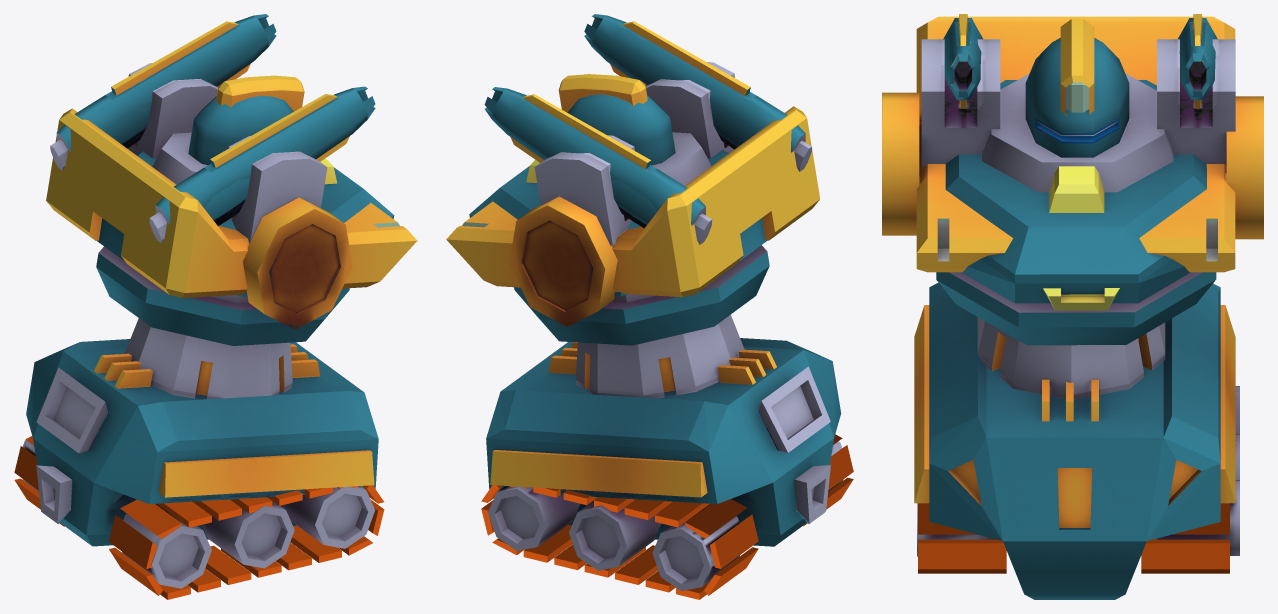
The model's file is Player_Move0.obj.
The picture shows the model from 3 angles, left to right: view 1: azimuth 30°, elevation 25°; view 2: azimuth 150°, elevation 25°; view 3: azimuth 270°, elevation 25°; orthographic projection. The views are drawn at different scales.
Parts seen in each view (by area): view 1: Object004, Object014, Box009, Box017, Box016; view 2: Object004, Object014, Box009, Box016, Box017; view 3: Object004, Object014, Box017, Box016, Box009.
Part boxes in pixels (bbox=[...]): Object004: bbox=[26, 63, 417, 546]; Object014: bbox=[50, 14, 375, 243]; Box009: bbox=[22, 440, 375, 588]; Box017: bbox=[109, 485, 384, 599]; Box016: bbox=[14, 436, 64, 526]; Object004: bbox=[446, 62, 841, 546]; Object014: bbox=[484, 14, 811, 244]; Box009: bbox=[488, 441, 843, 590]; Box016: bbox=[481, 485, 758, 599]; Box017: bbox=[803, 434, 853, 526]; Object004: bbox=[882, 16, 1263, 599]; Object014: bbox=[943, 14, 1217, 108]; Box017: bbox=[918, 503, 1006, 573]; Box016: bbox=[1141, 503, 1229, 573]; Box009: bbox=[917, 386, 1239, 556].
Size of the model in its own units: 60.24 by 83.64 by 52.49.
